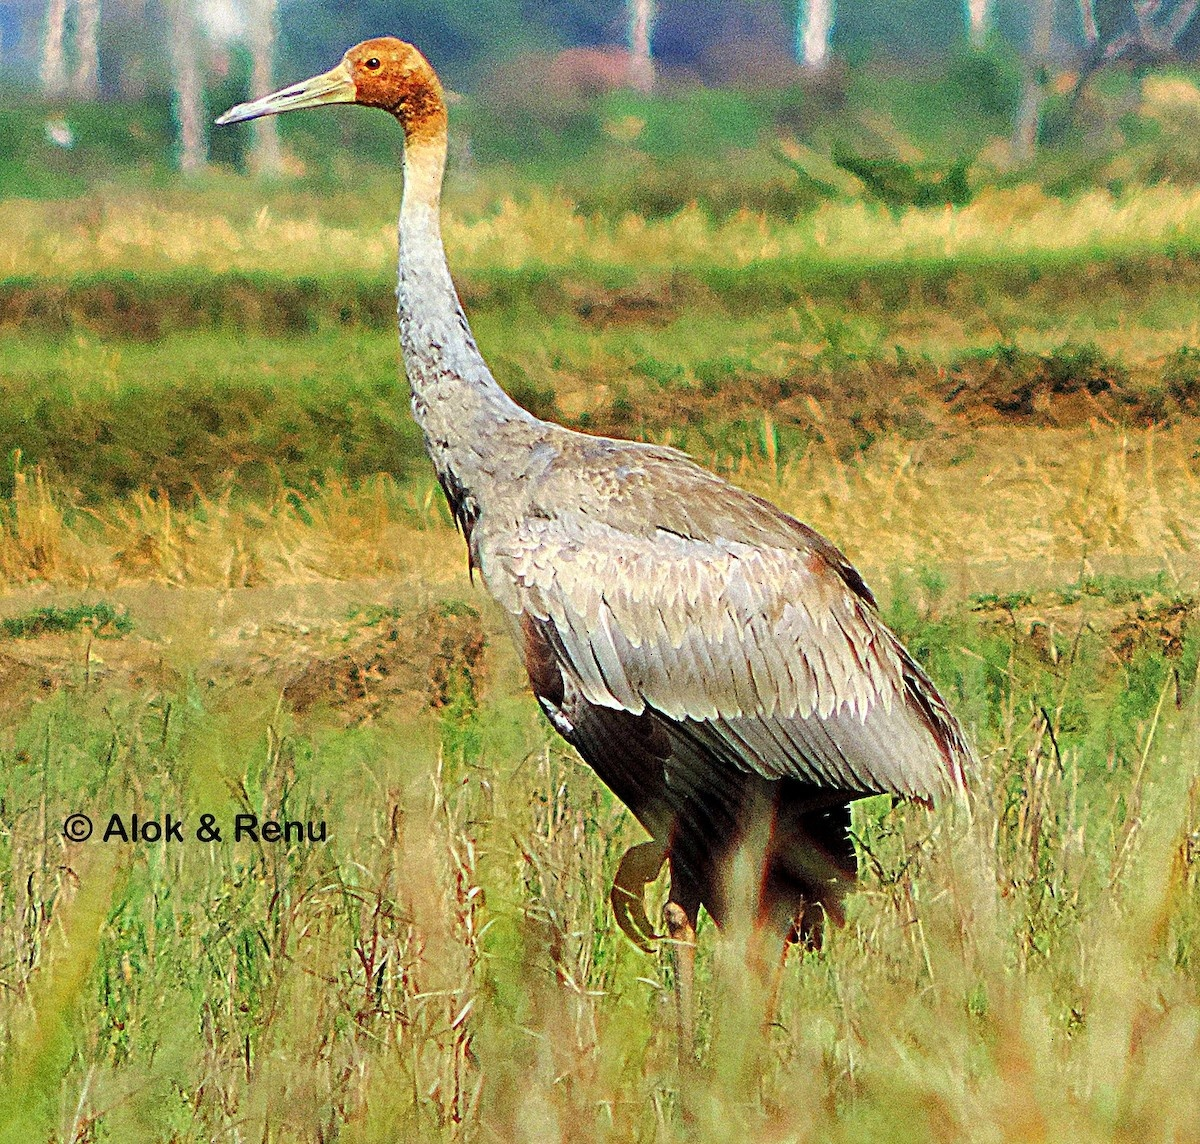crane: (226, 27, 991, 999)
